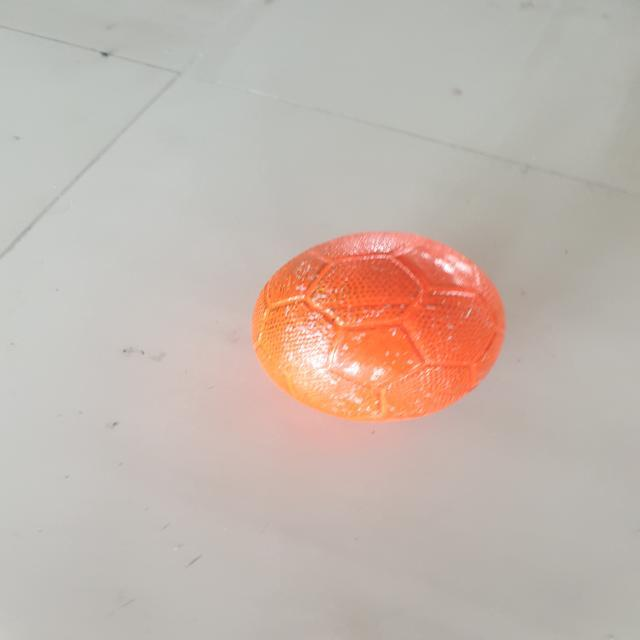bola: (242, 216, 534, 442)
